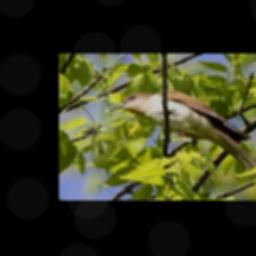Cuckoo: (108, 90, 256, 179)
